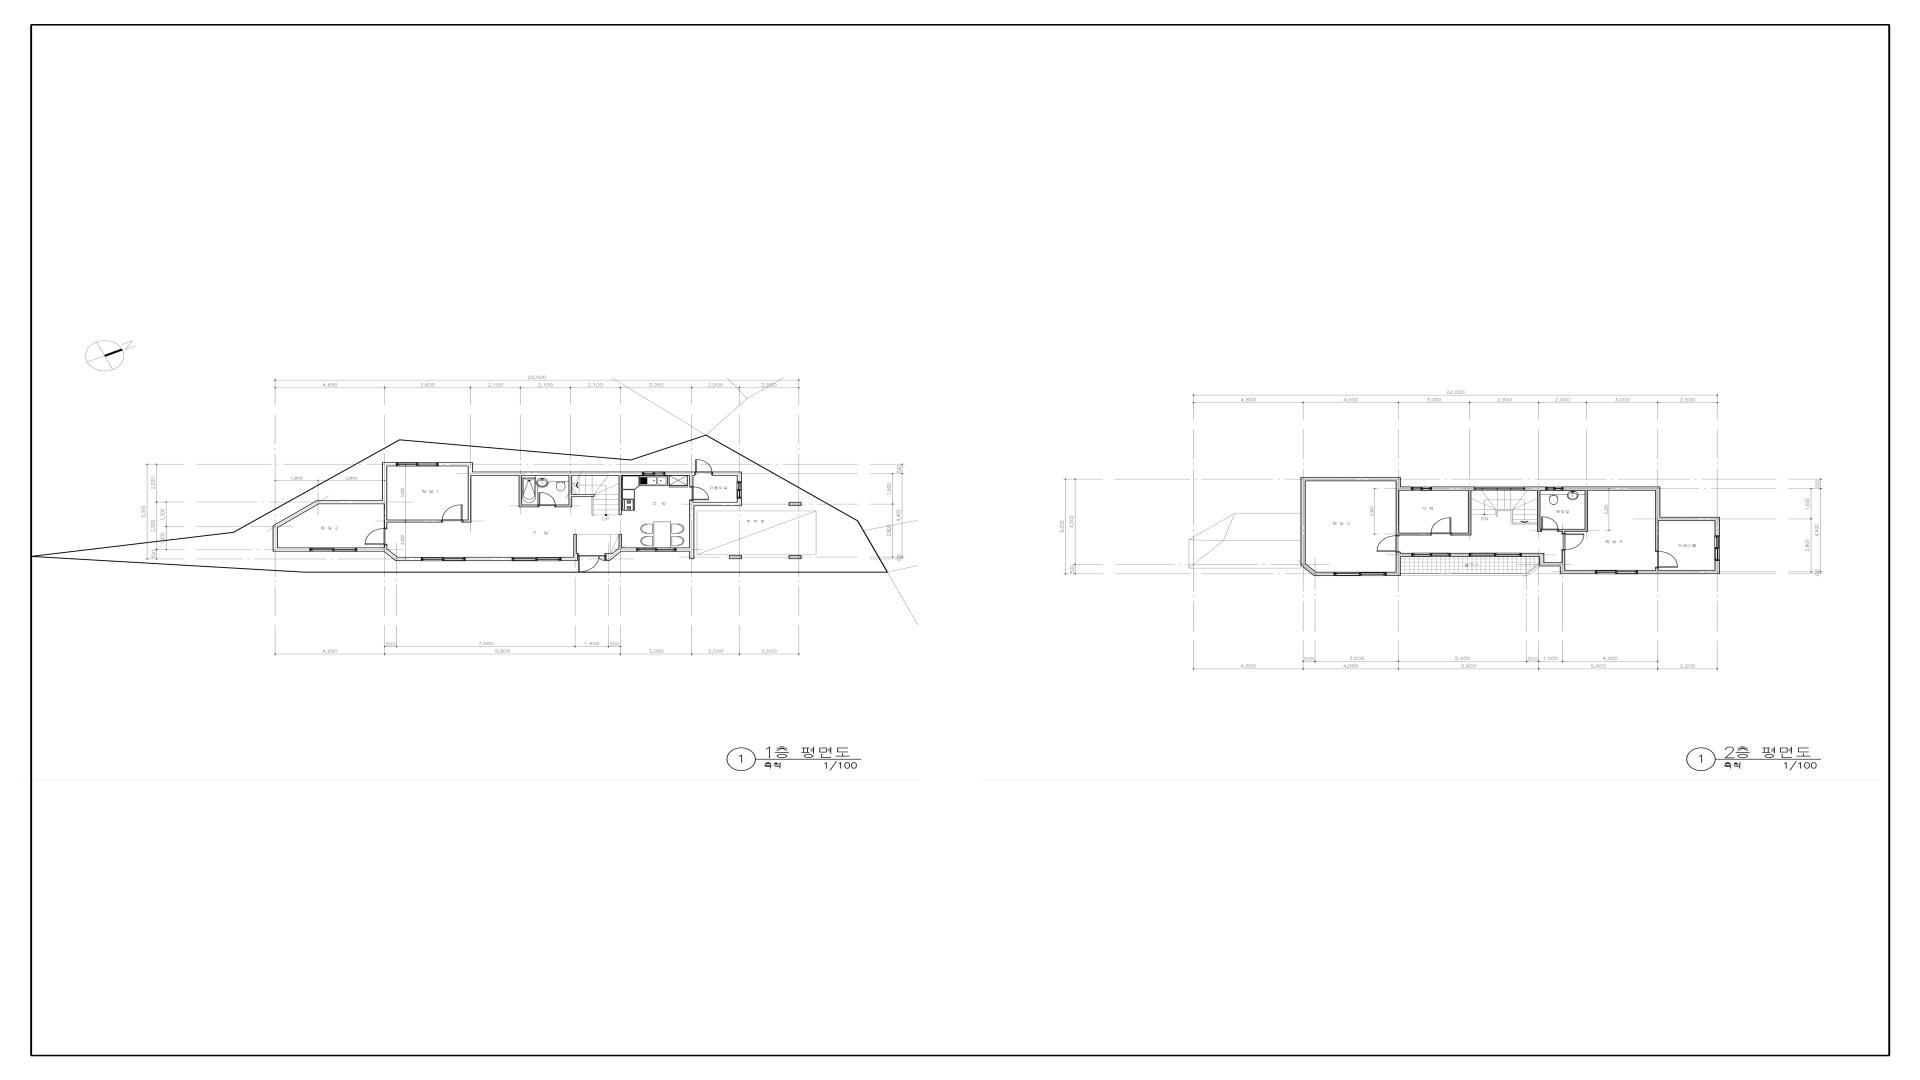door: (578, 553, 607, 572), (1429, 517, 1452, 535), (1561, 533, 1584, 551), (1377, 535, 1399, 553), (1655, 551, 1677, 568), (365, 527, 388, 545), (442, 505, 463, 522), (695, 459, 713, 476), (538, 492, 556, 508), (1540, 517, 1559, 531), (690, 487, 709, 500)
wall: (273, 500, 319, 547), (1300, 481, 1316, 576), (357, 547, 422, 562), (473, 472, 642, 476), (382, 463, 396, 500), (607, 547, 637, 560), (1300, 477, 1400, 481), (1564, 487, 1660, 491), (463, 476, 471, 522), (1539, 556, 1565, 570), (690, 500, 737, 506), (1638, 570, 1714, 574), (690, 506, 695, 559), (319, 500, 388, 504), (713, 472, 742, 481), (1660, 517, 1720, 521), (465, 556, 512, 560), (1468, 491, 1472, 535), (1432, 487, 1474, 491), (1395, 491, 1399, 533), (1655, 491, 1660, 521), (618, 476, 622, 514), (1395, 481, 1411, 491), (273, 547, 310, 551), (388, 520, 442, 522), (1560, 570, 1596, 574), (439, 463, 473, 467), (562, 553, 578, 560), (568, 476, 572, 508), (518, 476, 522, 508), (1655, 521, 1659, 551), (666, 472, 695, 476), (1585, 491, 1588, 531), (1538, 491, 1540, 531), (1395, 553, 1400, 572), (384, 504, 388, 527), (1395, 533, 1429, 535), (1522, 553, 1544, 556), (1524, 487, 1545, 491), (1714, 521, 1720, 535), (1316, 572, 1335, 576), (1451, 553, 1469, 556), (1714, 560, 1720, 574), (1559, 529, 1585, 531), (572, 495, 595, 497), (1386, 572, 1400, 576), (676, 547, 690, 551), (618, 534, 622, 547), (574, 534, 576, 553), (468, 467, 473, 476), (1561, 550, 1565, 562), (1400, 553, 1412, 556), (1452, 533, 1468, 535), (522, 505, 538, 508), (690, 476, 694, 487), (737, 498, 742, 506), (556, 505, 568, 508), (1655, 568, 1659, 570), (1561, 531, 1565, 533)
window: (1400, 563, 1539, 575), (422, 556, 465, 562), (1469, 553, 1522, 556), (1335, 572, 1386, 576), (1474, 487, 1524, 491), (512, 556, 562, 560), (310, 547, 357, 551), (396, 463, 439, 467), (1596, 570, 1638, 574), (637, 547, 676, 551), (1412, 553, 1451, 556), (1714, 535, 1720, 560), (642, 472, 666, 476), (737, 481, 742, 498), (1411, 487, 1432, 491), (1545, 487, 1564, 491)
